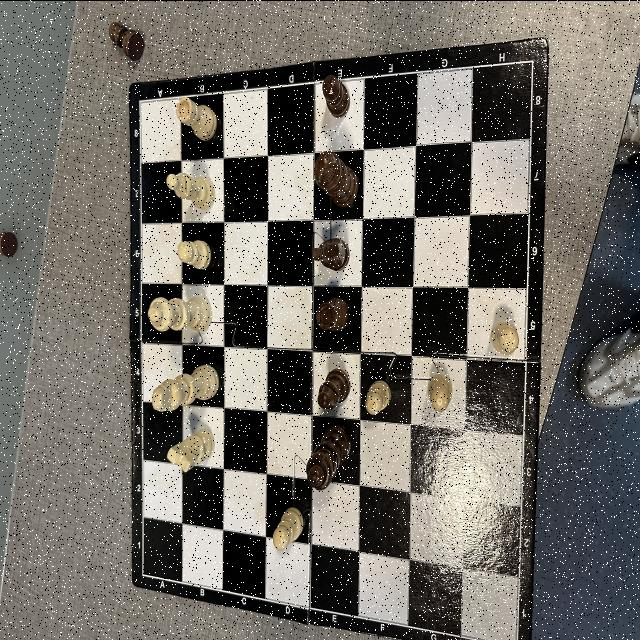Black-Bishop: (317, 366, 351, 408)
Black-King: (314, 149, 358, 207)
Black-Knight: (312, 236, 349, 270)
Black-Pawn: (108, 20, 144, 60), (322, 74, 350, 118)
Black-Queen: (306, 424, 352, 490)
Black-Rook: (316, 297, 348, 331)
White-Bishop: (166, 172, 215, 210)
White-King: (152, 362, 220, 411)
White-Knight: (167, 427, 214, 472)
White-Pawn: (272, 506, 304, 550), (178, 238, 212, 270), (490, 319, 520, 354), (427, 372, 453, 412), (365, 378, 391, 414)
White-Queen: (147, 294, 213, 330)
White-Rook: (175, 95, 218, 141)
